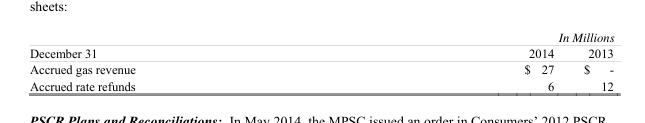table: (28, 29, 613, 92)
table column: (28, 29, 329, 92), (329, 29, 555, 92), (555, 29, 613, 92)
table column header: (28, 29, 613, 61)
table row: (28, 29, 613, 61), (28, 61, 613, 77), (28, 77, 613, 92)
